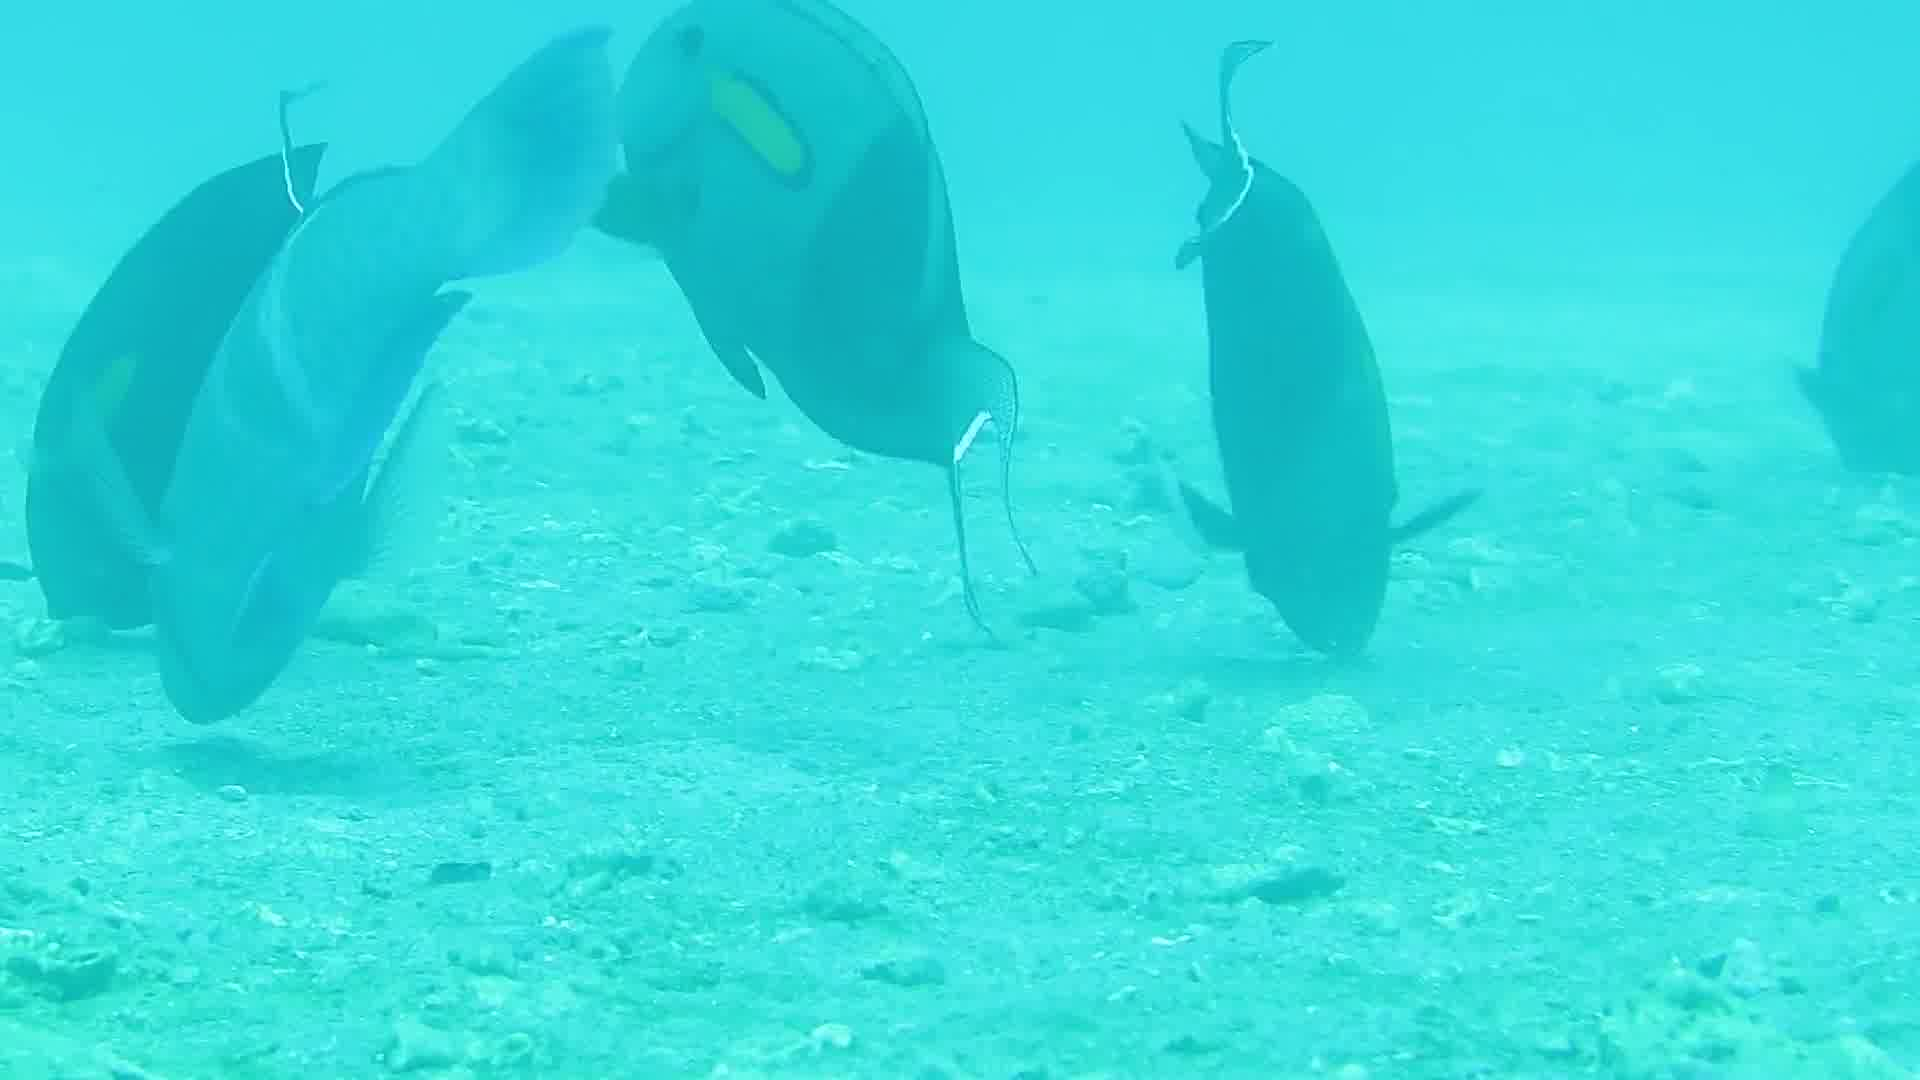Acanthurus olivaceus: (21, 29, 588, 802), (1106, 7, 1611, 692), (603, 1, 1077, 550)
